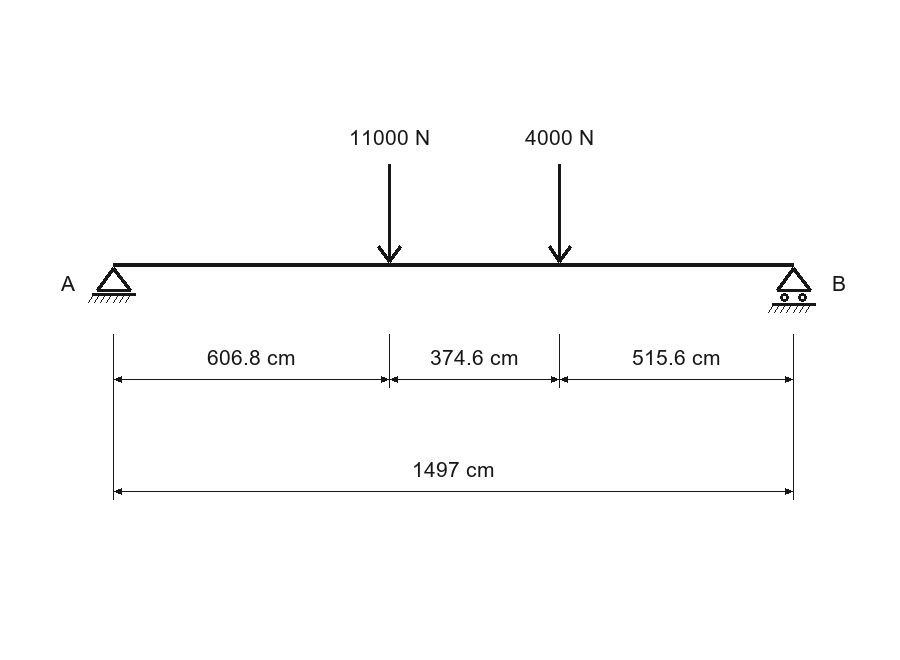pin_support: (88, 267, 136, 303)
point_load: (377, 164, 402, 263), (548, 164, 572, 263)
roller_support: (768, 267, 816, 313)
